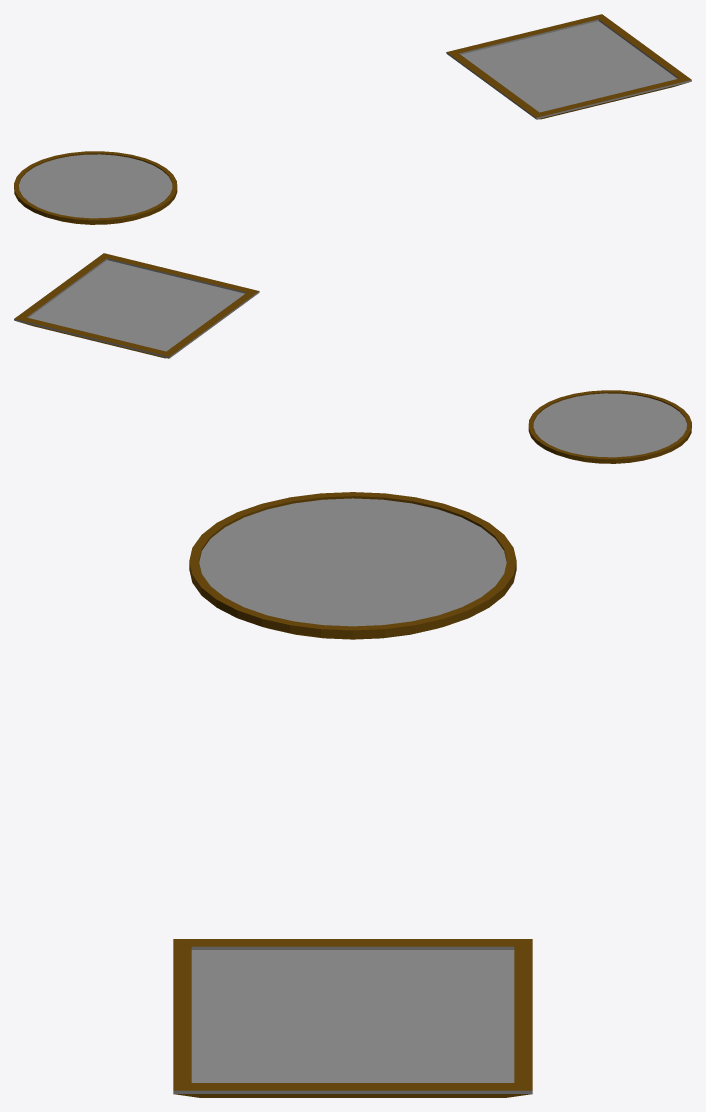
File: Platforms.fbx
The picture shows the model from 3 angles, top to bottom: view 1: azimuth 30°, elevation 25°; view 2: azimuth 150°, elevation 25°; view 3: azimuth 270°, elevation 25°; orthographic projection. The views are drawn at different scales.
Visible parts, largest first — view 1: Square Platform, Elevator; view 2: Square Platform, Elevator; view 3: Square Platform, Elevator.
Boxes of the visible parts, x1,y1,x2,y2 form: Square Platform: (446,14,691,119); Elevator: (14,151,177,224); Square Platform: (14,253,259,358); Elevator: (528,390,691,463); Square Platform: (173,939,532,1097); Elevator: (189,492,516,639).
Size of the model in its own units: 2116 by 55.54 by 529.
